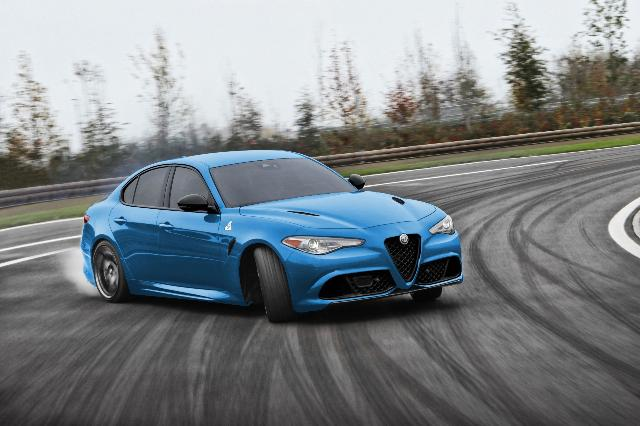alpha-romeo: (80, 149, 464, 327)
